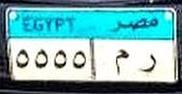5: (70, 50, 88, 72), (52, 49, 69, 71), (32, 48, 49, 70), (14, 47, 30, 70)
meem: (112, 47, 130, 78)
raa: (136, 52, 158, 76)
